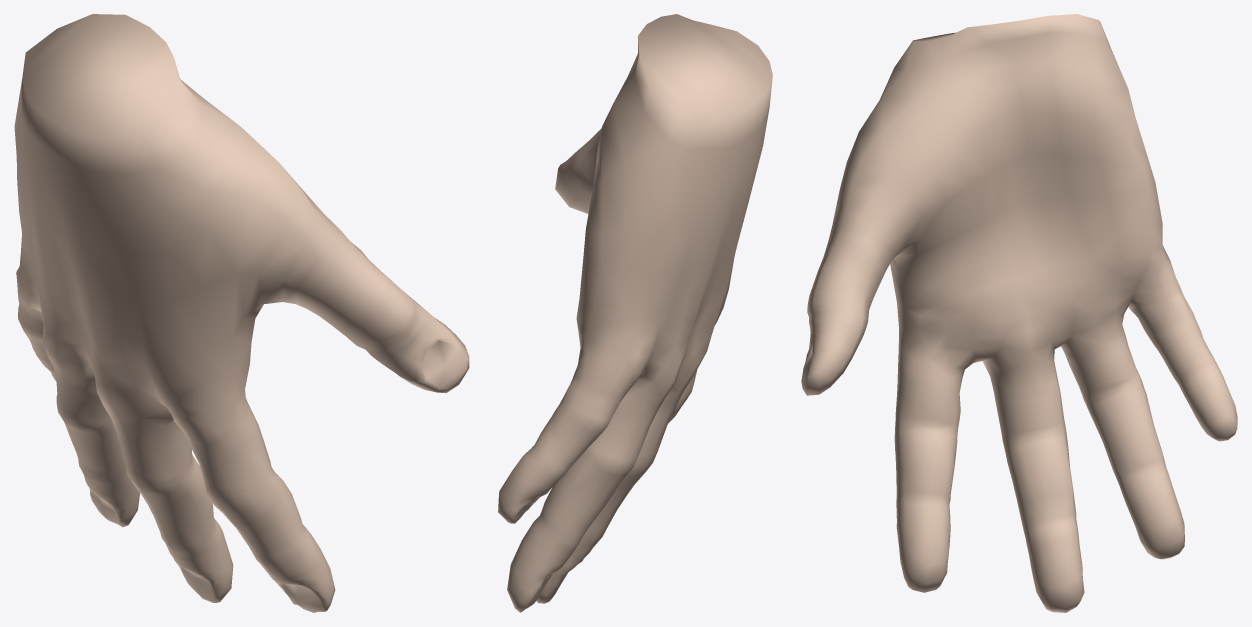
The model's file is left_hand.dae.
3 renders of one model, left to right at view 1: azimuth 30°, elevation 25°; view 2: azimuth 150°, elevation 25°; view 3: azimuth 270°, elevation 25°, orthographic. The views are drawn at different scales.
Parts seen in each view (by area): view 1: left-hand; view 2: left-hand; view 3: left-hand.
Part boxes in pixels (x1,y1,x2,y2): left-hand: (14, 14, 469, 612); left-hand: (498, 14, 772, 612); left-hand: (801, 14, 1237, 612).
Size of the model in its own units: 0.0881 by 0.1171 by 0.1646.
